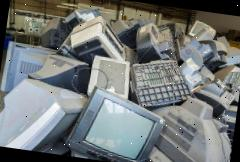electronic: (63, 81, 168, 162)
